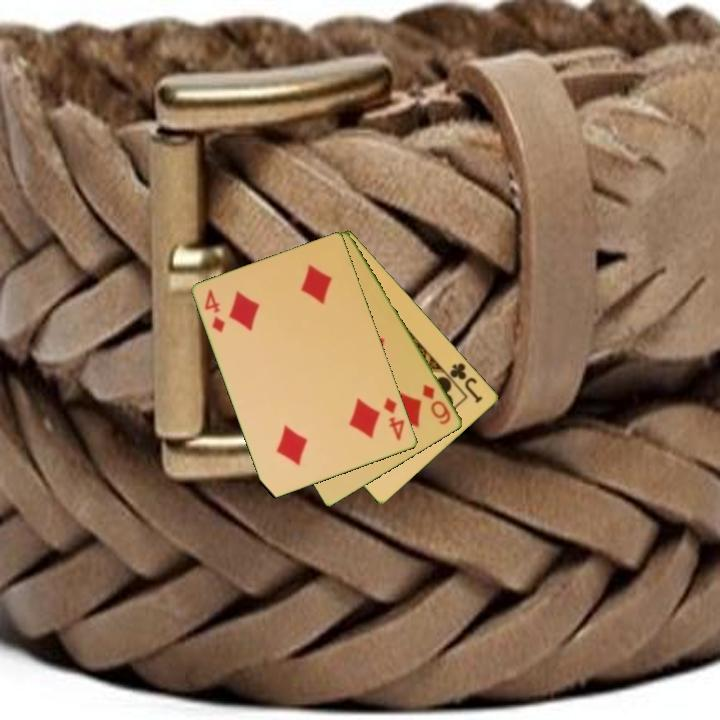4d: (380, 394, 408, 444), (201, 286, 228, 335)
6d: (419, 381, 454, 428)
Jc: (446, 359, 486, 406)
